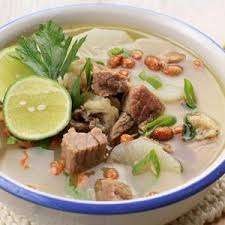soto: (1, 3, 225, 212)
